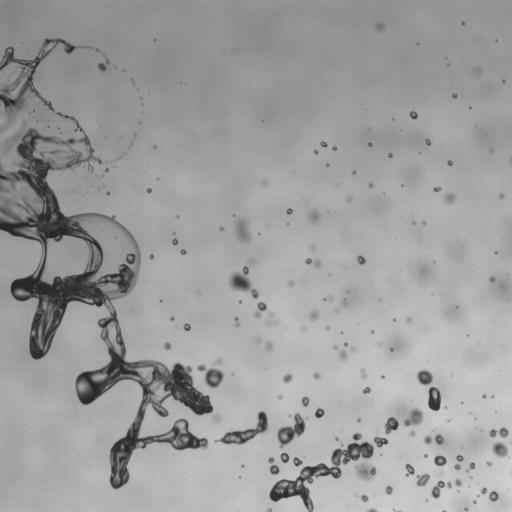droplet: (229, 266, 258, 299), (197, 359, 223, 388), (234, 217, 251, 243), (355, 462, 376, 481), (403, 408, 423, 426), (427, 387, 441, 411), (416, 369, 433, 385), (492, 441, 508, 457), (384, 417, 399, 434), (253, 302, 267, 318), (97, 55, 109, 71), (416, 473, 430, 486), (307, 210, 320, 223), (373, 436, 388, 447), (266, 311, 277, 325), (434, 455, 446, 467), (443, 192, 455, 203), (309, 310, 319, 321), (339, 349, 348, 361), (405, 464, 414, 476), (283, 372, 292, 383), (315, 408, 324, 418), (280, 452, 289, 462), (489, 491, 498, 501), (293, 457, 302, 466), (265, 341, 273, 351), (301, 396, 309, 406), (375, 22, 384, 30), (357, 255, 365, 264), (454, 478, 461, 487), (385, 485, 392, 494), (410, 111, 417, 119), (248, 258, 256, 265), (163, 342, 171, 349), (312, 372, 320, 379), (361, 494, 368, 502), (473, 67, 480, 74), (254, 337, 261, 344), (213, 414, 220, 421), (433, 186, 441, 192), (184, 323, 190, 331), (320, 141, 327, 147), (363, 387, 370, 393), (262, 180, 268, 186), (286, 208, 292, 214), (172, 239, 178, 245), (489, 276, 495, 282), (409, 430, 415, 436), (425, 138, 430, 145), (481, 487, 486, 494), (180, 249, 186, 254), (288, 280, 293, 286), (342, 300, 347, 306), (486, 461, 492, 466), (438, 470, 443, 476), (452, 93, 457, 98), (447, 160, 452, 165), (499, 193, 504, 198), (310, 245, 315, 250), (149, 254, 154, 259), (406, 317, 411, 322), (346, 197, 352, 201), (147, 188, 151, 193), (219, 226, 223, 231), (351, 346, 355, 351), (277, 395, 282, 399), (266, 508, 272, 511), (332, 146, 336, 150), (314, 150, 318, 154), (388, 153, 392, 157), (368, 183, 372, 187), (170, 317, 174, 321), (333, 345, 337, 349), (482, 394, 486, 398), (357, 418, 361, 422), (368, 143, 372, 146), (352, 171, 356, 174), (106, 191, 109, 195), (422, 221, 425, 225), (326, 326, 329, 330), (423, 454, 427, 457), (461, 22, 464, 25), (490, 149, 493, 152), (105, 168, 108, 171), (371, 330, 374, 333), (390, 348, 393, 351), (335, 437, 338, 440), (336, 308, 338, 312), (130, 142, 132, 145), (326, 163, 328, 166), (176, 215, 179, 217), (412, 222, 415, 224), (239, 300, 241, 303), (344, 343, 347, 345), (381, 375, 383, 378), (473, 500, 475, 503), (465, 508, 467, 511), (96, 49, 98, 51), (31, 110, 33, 112), (42, 120, 44, 122), (111, 265, 113, 267), (303, 327, 305, 329), (444, 406, 446, 408), (447, 420, 449, 422), (477, 495, 479, 497)
ligament: (0, 38, 213, 489), (269, 433, 374, 511), (215, 411, 268, 444), (277, 413, 307, 448), (431, 480, 451, 498), (489, 427, 508, 437), (424, 434, 443, 444), (268, 457, 279, 474), (305, 258, 321, 267), (454, 455, 463, 470), (466, 462, 474, 471), (361, 369, 366, 378), (235, 317, 239, 327), (366, 508, 378, 511), (324, 296, 332, 300), (510, 158, 511, 164), (393, 510, 397, 511)
